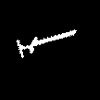double_crochet: (17, 30, 75, 57)
